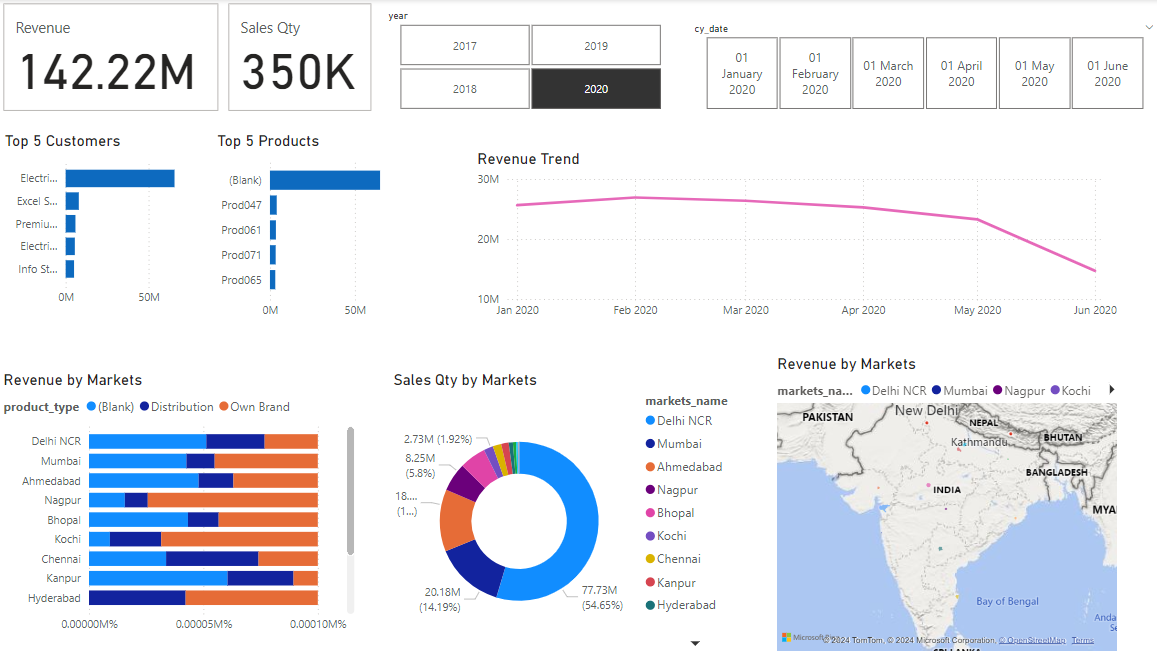

The page's visual inventory and layout, read from the dashboard file:
{"tool":"powerbi","page":{"name":"Page 1","canvas":[1280,720],"ordinal":0},"visuals":[{"type":"cardVisual","fields":{"Data":["BaseMeasures.Revenue"]},"box":[0,0,247,129],"z":0},{"type":"cardVisual","fields":{"Data":["BaseMeasures.Sales Qty"]},"box":[247,0,167.4,129],"z":1000},{"type":"hundredPercentStackedBarChart","title":"Revenue by Markets","fields":{"Category":["sales markets.markets_name"],"Y":["BaseMeasures.Revenue"],"Series":["sales products.product_type"]},"box":[0,407.5,395.2,296.4],"z":2000},{"type":"filledMap","title":"Revenue by Markets","fields":{"Series":["sales markets.markets_name"],"Category":["sales markets.markets_name"]},"box":[849.4,389.7,382.8,330.7],"z":3000},{"type":"slicer","fields":{"Values":["sales date.year"]},"box":[414.4,6.9,336.2,120.8],"z":4000},{"type":"barChart","title":"Top 5 Customers","fields":{"Y":["BaseMeasures.Revenue"],"Category":["sales customers.custmer_name"]},"box":[1.4,145.5,234.6,200.3],"z":5000},{"type":"slicer","fields":{"Values":["sales date.cy_date"]},"box":[750.6,20.6,529.7,107],"z":6000},{"type":"barChart","title":"Top 5 Products","fields":{"Y":["BaseMeasures.Revenue"],"Category":["sales products.product_code"]},"box":[234.6,145.5,229.2,214.1],"z":7000},{"type":"lineChart","title":"Revenue Trend","fields":{"Y":["BaseMeasures.Revenue"],"Category":["sales date.cy_date.Variation.Date Hierarchy.Year","sales date.cy_date.Variation.Date Hierarchy.Quarter","sales date.cy_date.Variation.Date Hierarchy.Month","sales date.cy_date.Variation.Date Hierarchy.Day"]},"box":[520.1,164.7,712.2,194.9],"z":8000},{"type":"donutChart","title":"Sales Qty by Markets","fields":{"Category":["sales markets.markets_name"],"Y":["BaseMeasures.Revenue"]},"box":[428.1,407.5,395.2,312.9],"z":9000}]}

Visuals, with their boxes in screenshot pixels (x1, y1, x2, y2), scaled from the page's 1280x720 canvas onto the 1157x653 screenshot:
cardVisual - BaseMeasures.Revenue: l=0, t=0, r=223, b=117
cardVisual - BaseMeasures.Sales Qty: l=223, t=0, r=375, b=117
"Revenue by Markets" hundredPercentStackedBarChart: l=0, t=370, r=357, b=638
"Revenue by Markets" filledMap: l=768, t=353, r=1114, b=652
slicer - sales date.year: l=375, t=6, r=678, b=116
"Top 5 Customers" barChart: l=1, t=132, r=213, b=314
slicer - sales date.cy_date: l=678, t=19, r=1156, b=116
"Top 5 Products" barChart: l=212, t=132, r=419, b=326
"Revenue Trend" lineChart: l=470, t=149, r=1114, b=326
"Sales Qty by Markets" donutChart: l=387, t=370, r=744, b=652
